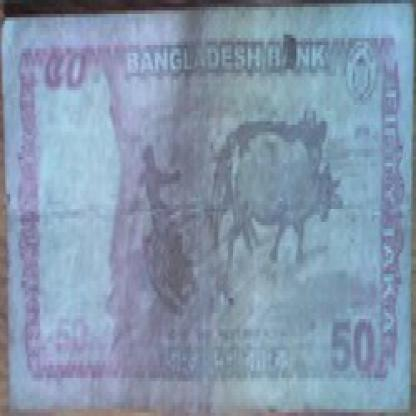Fifty taka: (42, 35, 103, 121), (331, 312, 373, 378)
